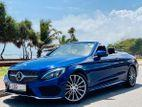car: (4, 41, 139, 101)
